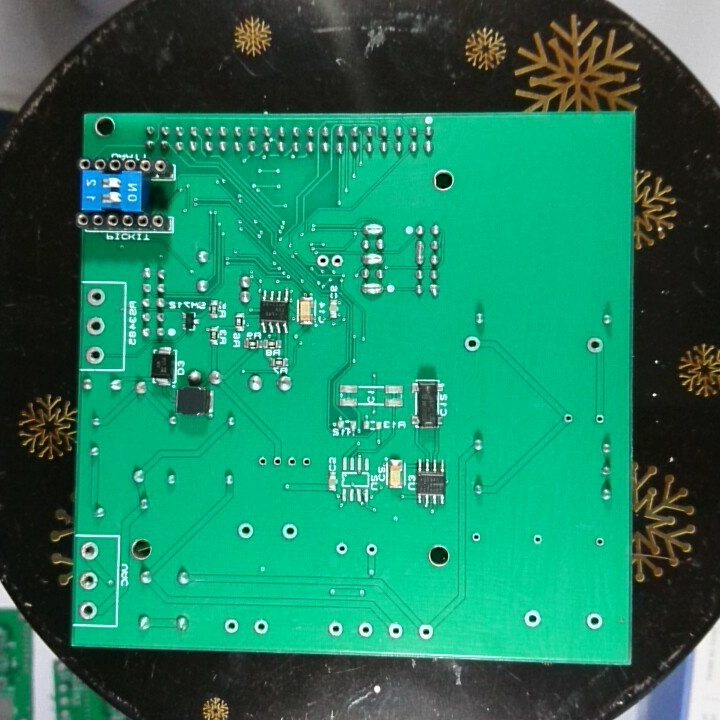F: (85, 312, 110, 338), (84, 286, 110, 310), (78, 539, 102, 563), (234, 519, 258, 542), (582, 335, 606, 357), (583, 610, 605, 634), (460, 333, 483, 355), (383, 619, 405, 642), (84, 344, 107, 366), (521, 607, 543, 629), (220, 615, 242, 637), (77, 570, 99, 592), (416, 621, 437, 643), (325, 618, 345, 641), (76, 600, 99, 620), (279, 521, 300, 542), (355, 620, 376, 640), (252, 617, 270, 638), (330, 251, 345, 272), (531, 531, 548, 549), (363, 541, 381, 558), (468, 528, 485, 546), (313, 252, 329, 271), (299, 452, 314, 472), (591, 535, 608, 552), (334, 541, 351, 558), (592, 411, 607, 428), (270, 452, 285, 469), (256, 452, 271, 469), (285, 452, 299, 470), (560, 410, 575, 426)
P: (359, 220, 387, 238), (358, 280, 386, 297), (361, 250, 386, 268), (413, 237, 427, 265)
